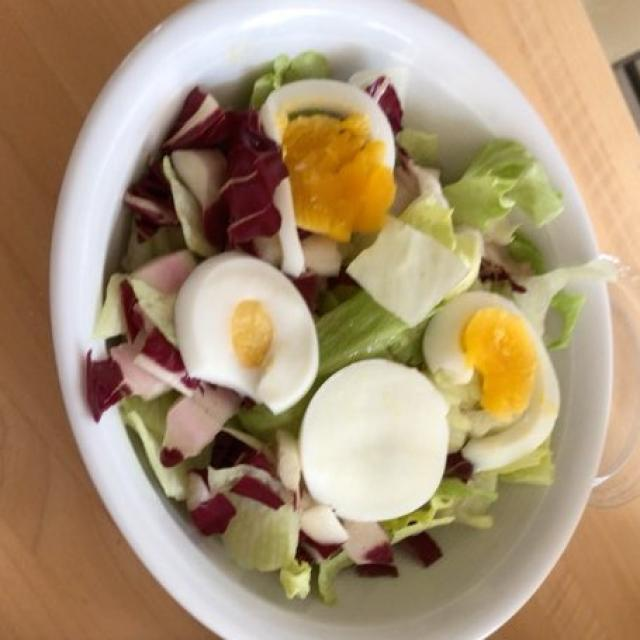egg: (174, 79, 552, 520)
mixed-salad-chopped-without-sauce: (91, 56, 562, 593)
